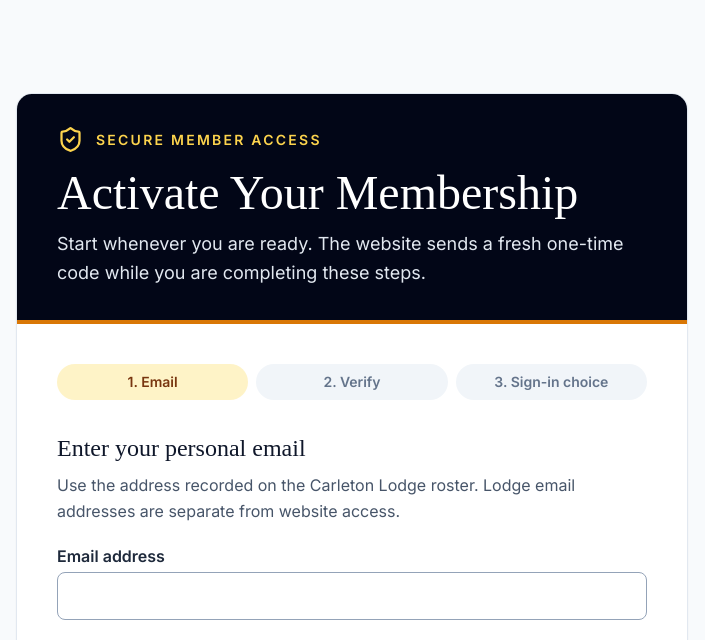
it: ActivateMembershipPage › requests a code without revealing whether the roster email exists
In the field labelled "Email address": (352, 596) x1=57 y1=572 x2=647 y2=620, type " Member@Example.com "
(page scrolled)
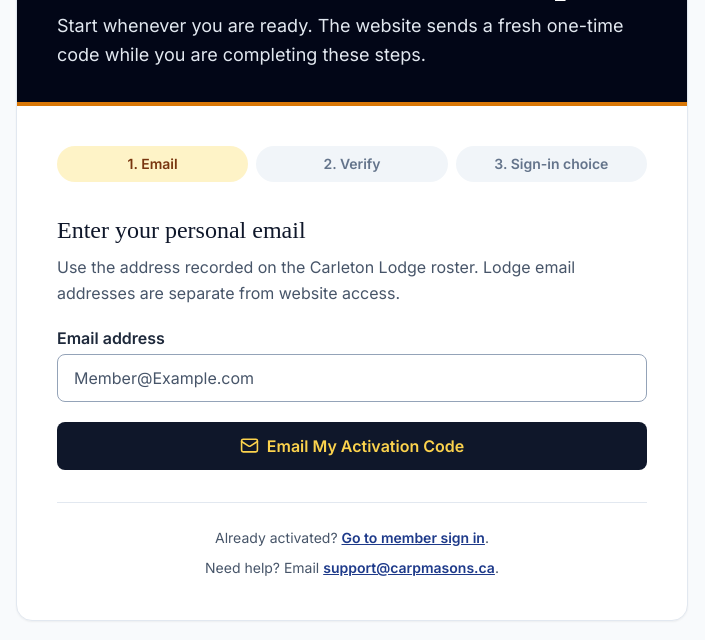
Click the button "Email My Activation Code": (352, 446) x1=57 y1=422 x2=647 y2=470
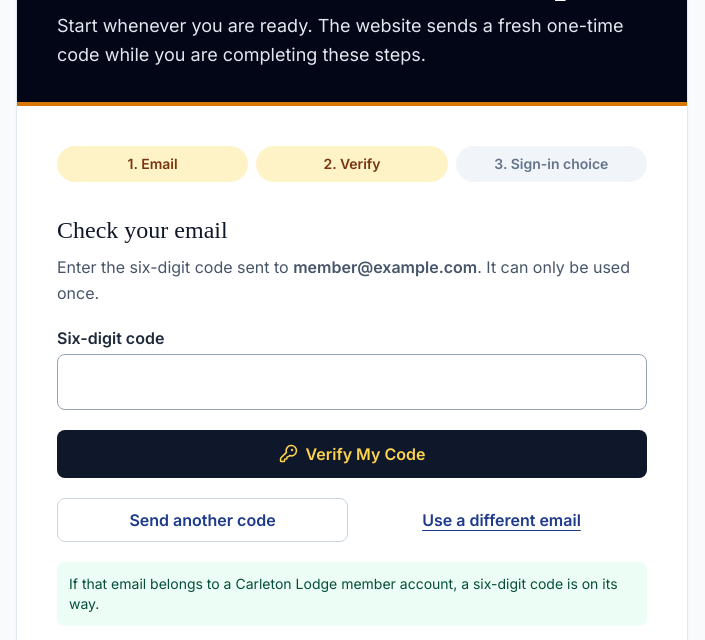
Check: the text "If that email belongs" is shown, box x1=69 y1=574 x2=618 y2=612
Check: the field labelled "Six-digit code" is shown, box x1=57 y1=354 x2=647 y2=410
